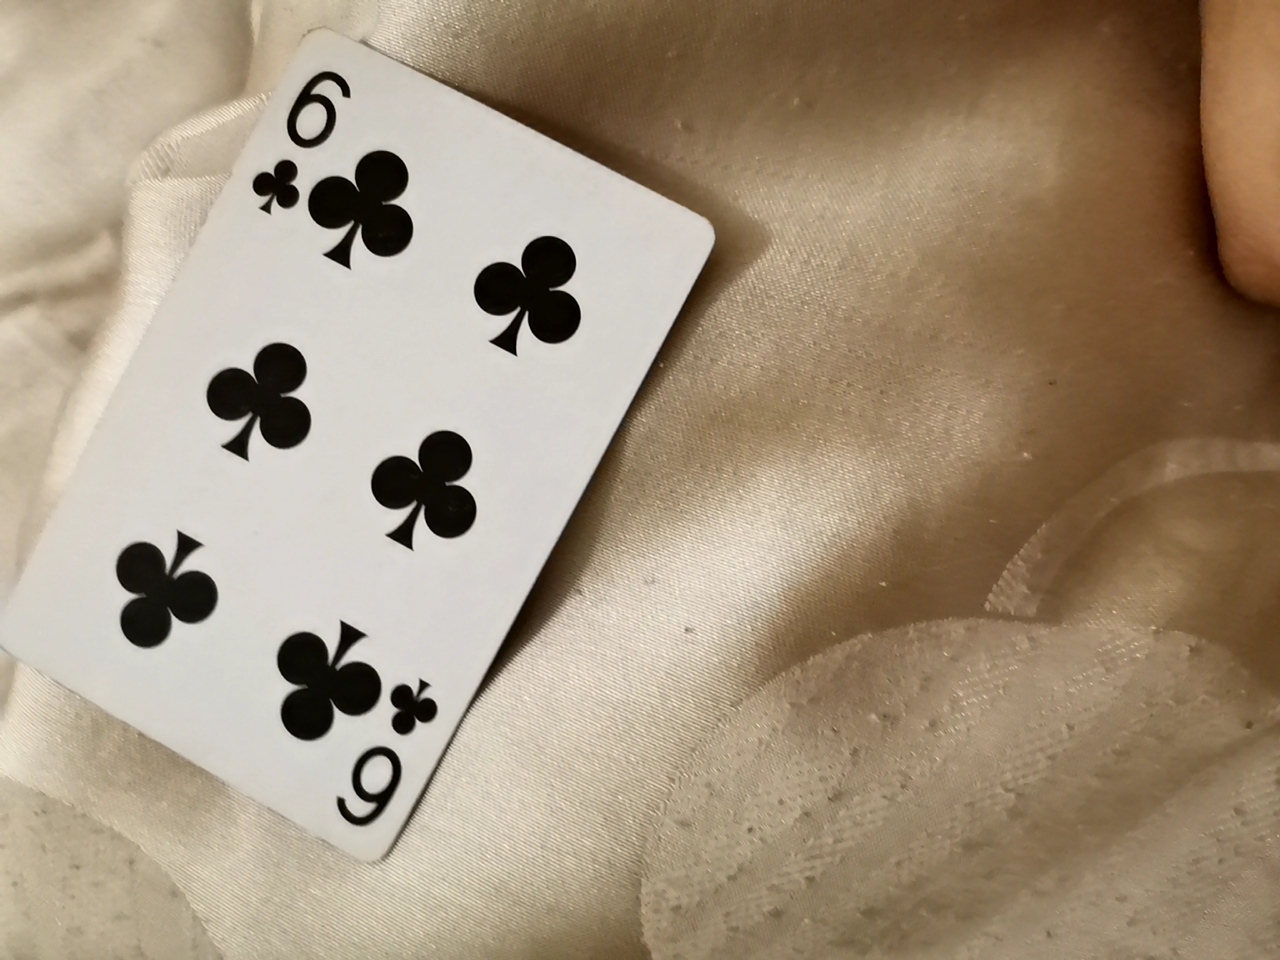mh 6: (10, 26, 713, 842)
